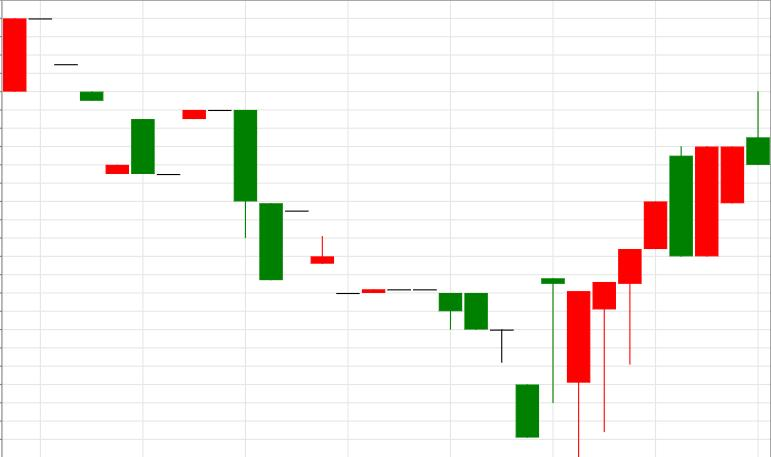bearish_engulfing_fall: (515, 146, 692, 455)
